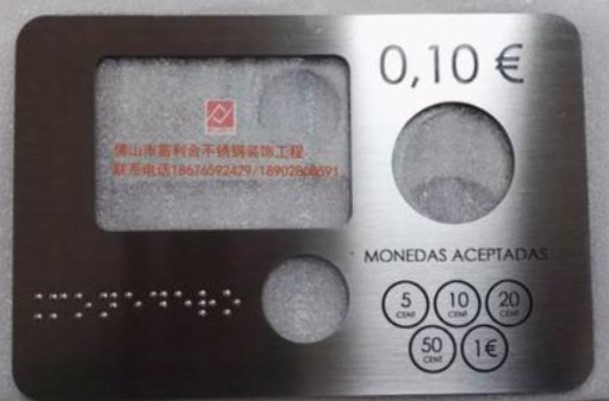Braille: (222, 289, 242, 317), (197, 289, 216, 318), (25, 293, 44, 321), (74, 292, 93, 320), (149, 291, 168, 319), (174, 290, 192, 319), (49, 293, 68, 320), (124, 291, 143, 318), (100, 292, 117, 320)
